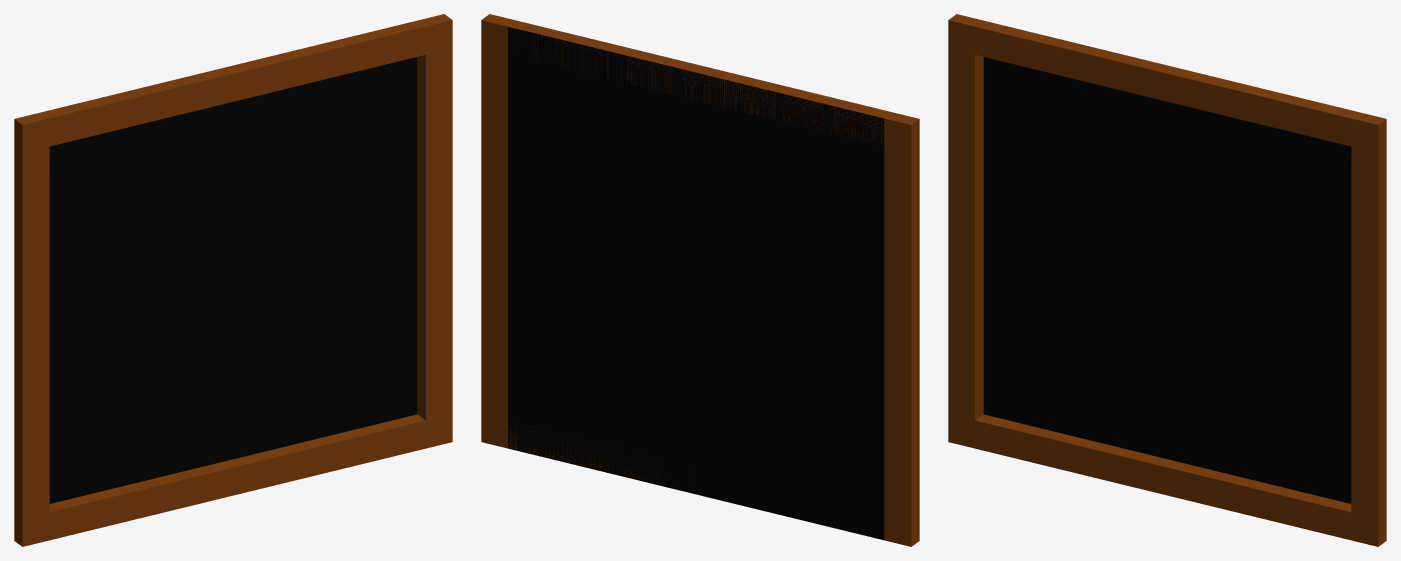
Rendered from Roman_Chalkboard_square.fbx.
3 views of the same model, side by side, from view 1: azimuth 30°, elevation 25°; view 2: azimuth 150°, elevation 25°; view 3: azimuth 330°, elevation 25° (orthographic).
Parts seen in each view (by area): view 1: Roman Chalkboard Square; view 2: Roman Chalkboard Square; view 3: Roman Chalkboard Square.
Part boxes in pixels (x1,y1,x2,y2): Roman Chalkboard Square: [14, 14, 452, 546]; Roman Chalkboard Square: [481, 14, 919, 546]; Roman Chalkboard Square: [948, 14, 1386, 546].
Bounding box in the file's own units: 213 × 200 × 7.23.
